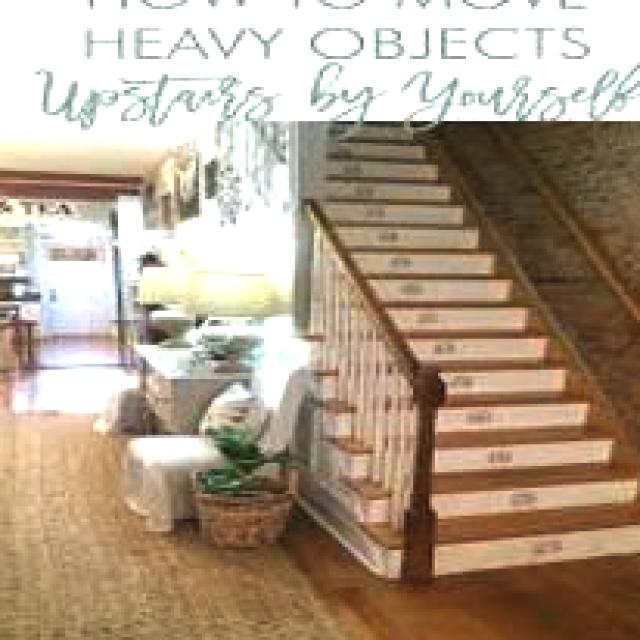upstair: (374, 274, 640, 548)
